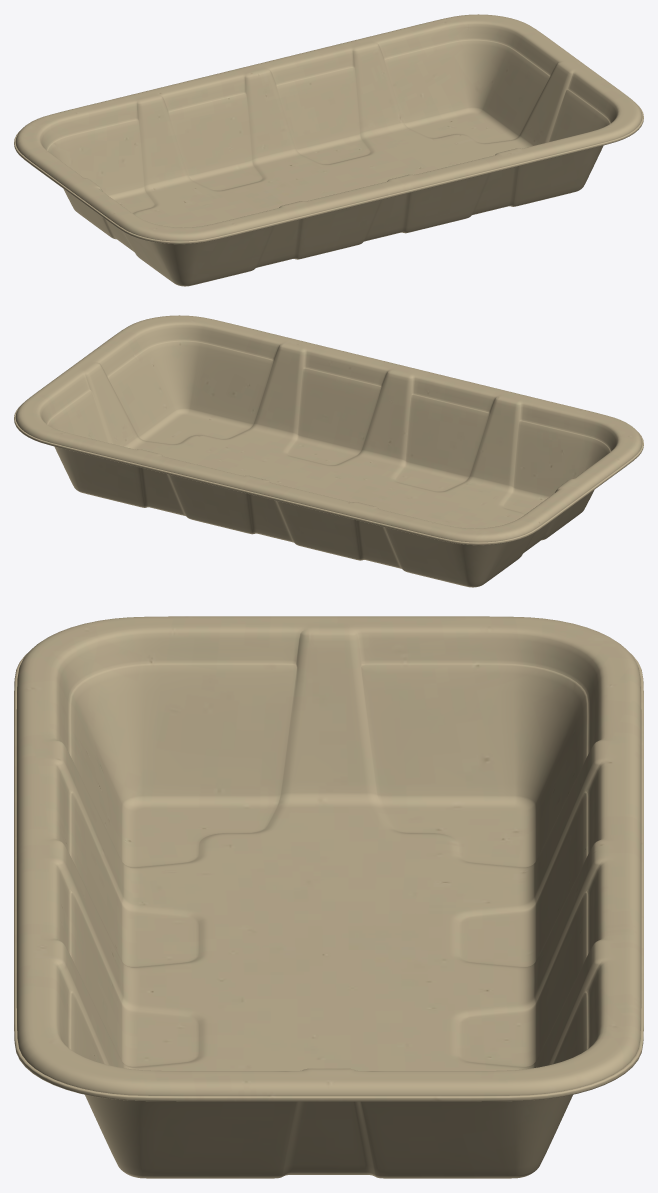
Rendered from PT9710-clean-transformed.glb.
3 views of the same model, one above another, from view 1: azimuth 30°, elevation 25°; view 2: azimuth 150°, elevation 25°; view 3: azimuth 270°, elevation 25° (orthographic). The views are drawn at different scales.
Parts seen in each view (by area): view 1: Monte_Tray_ECH_03D; view 2: Monte_Tray_ECH_03D; view 3: Monte_Tray_ECH_03D.
Boxes of the visible parts, bbox=[...] form: Monte_Tray_ECH_03D: bbox=[14, 14, 643, 286]; Monte_Tray_ECH_03D: bbox=[14, 315, 643, 587]; Monte_Tray_ECH_03D: bbox=[14, 616, 643, 1178].
Bounding box in the file's own units: 0.215 × 0.0305 × 0.12.
Materials: 1 (1 with a texture image).
